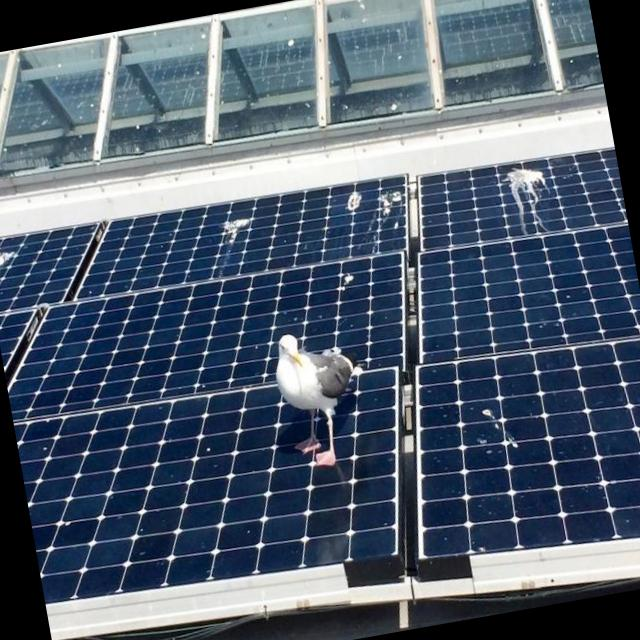faulty: (236, 310, 394, 481), (318, 170, 426, 299), (479, 152, 584, 270), (462, 396, 536, 474), (0, 225, 41, 330), (206, 200, 262, 260)
